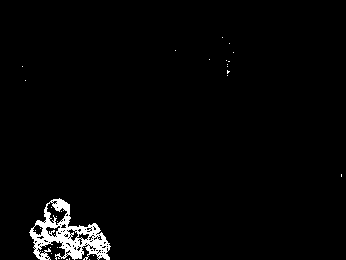person: (29, 197, 109, 260)
